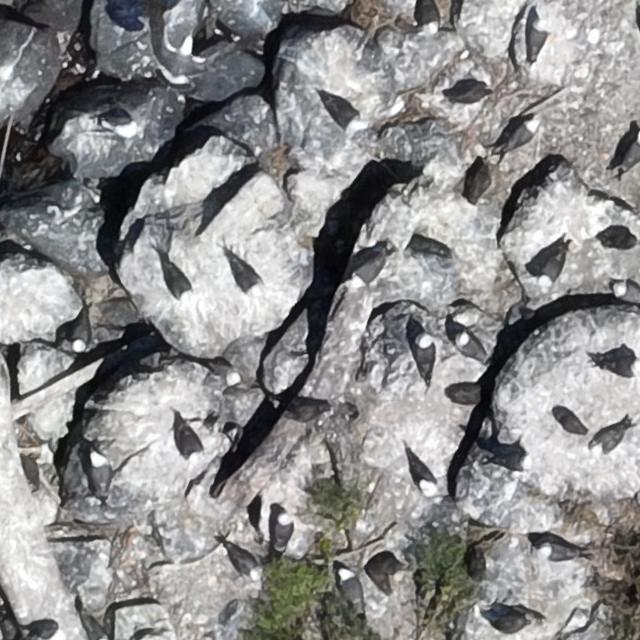F: (146, 14, 231, 81)
umineko: (159, 258, 195, 309), (235, 250, 264, 303), (349, 255, 392, 288), (100, 109, 142, 139), (180, 425, 205, 468), (325, 98, 359, 128), (416, 4, 444, 39), (618, 132, 640, 176), (70, 311, 90, 356), (235, 556, 266, 582), (490, 613, 530, 633), (496, 452, 535, 472), (339, 570, 360, 604), (601, 357, 638, 376), (509, 121, 536, 147), (557, 410, 586, 433), (414, 334, 432, 371), (210, 362, 240, 384), (590, 430, 620, 452), (459, 335, 485, 360), (528, 18, 546, 54), (540, 255, 561, 284), (72, 323, 91, 352), (91, 456, 108, 488), (274, 512, 290, 545), (416, 472, 436, 498), (541, 544, 573, 560), (614, 284, 638, 302)
